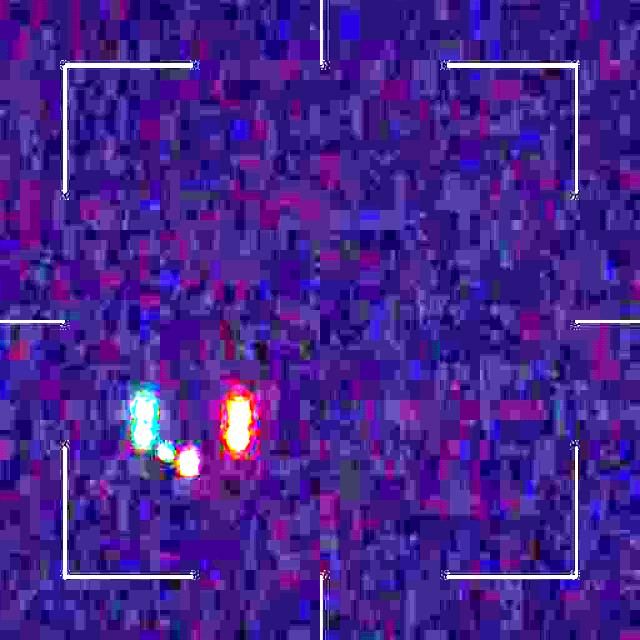bird: (134, 392, 251, 479)
